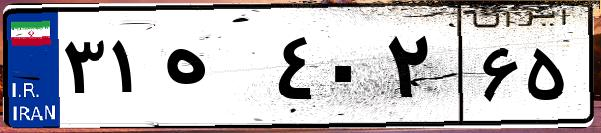0: (330, 28, 385, 110)
1: (110, 28, 158, 98)
2: (385, 28, 445, 110)
3: (57, 26, 110, 100)
4: (270, 28, 330, 110)
5: (525, 38, 570, 115)
6: (475, 38, 525, 113)
ه: (158, 20, 270, 120)
